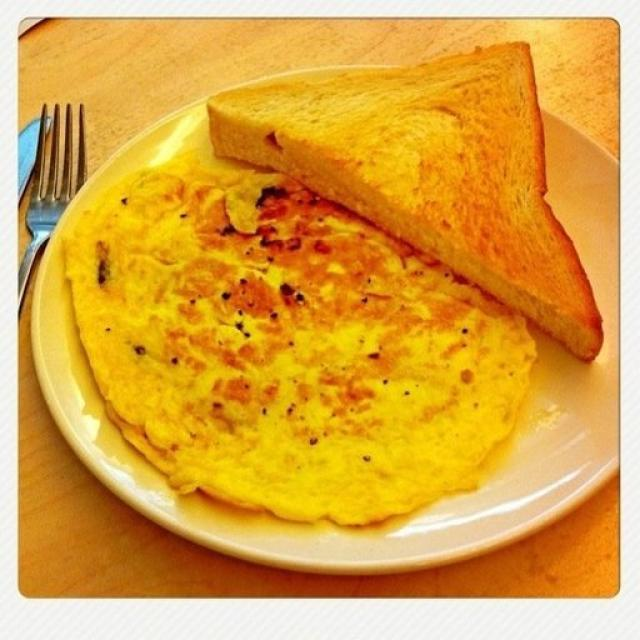telur_ayam_dadar: (62, 146, 540, 526)
